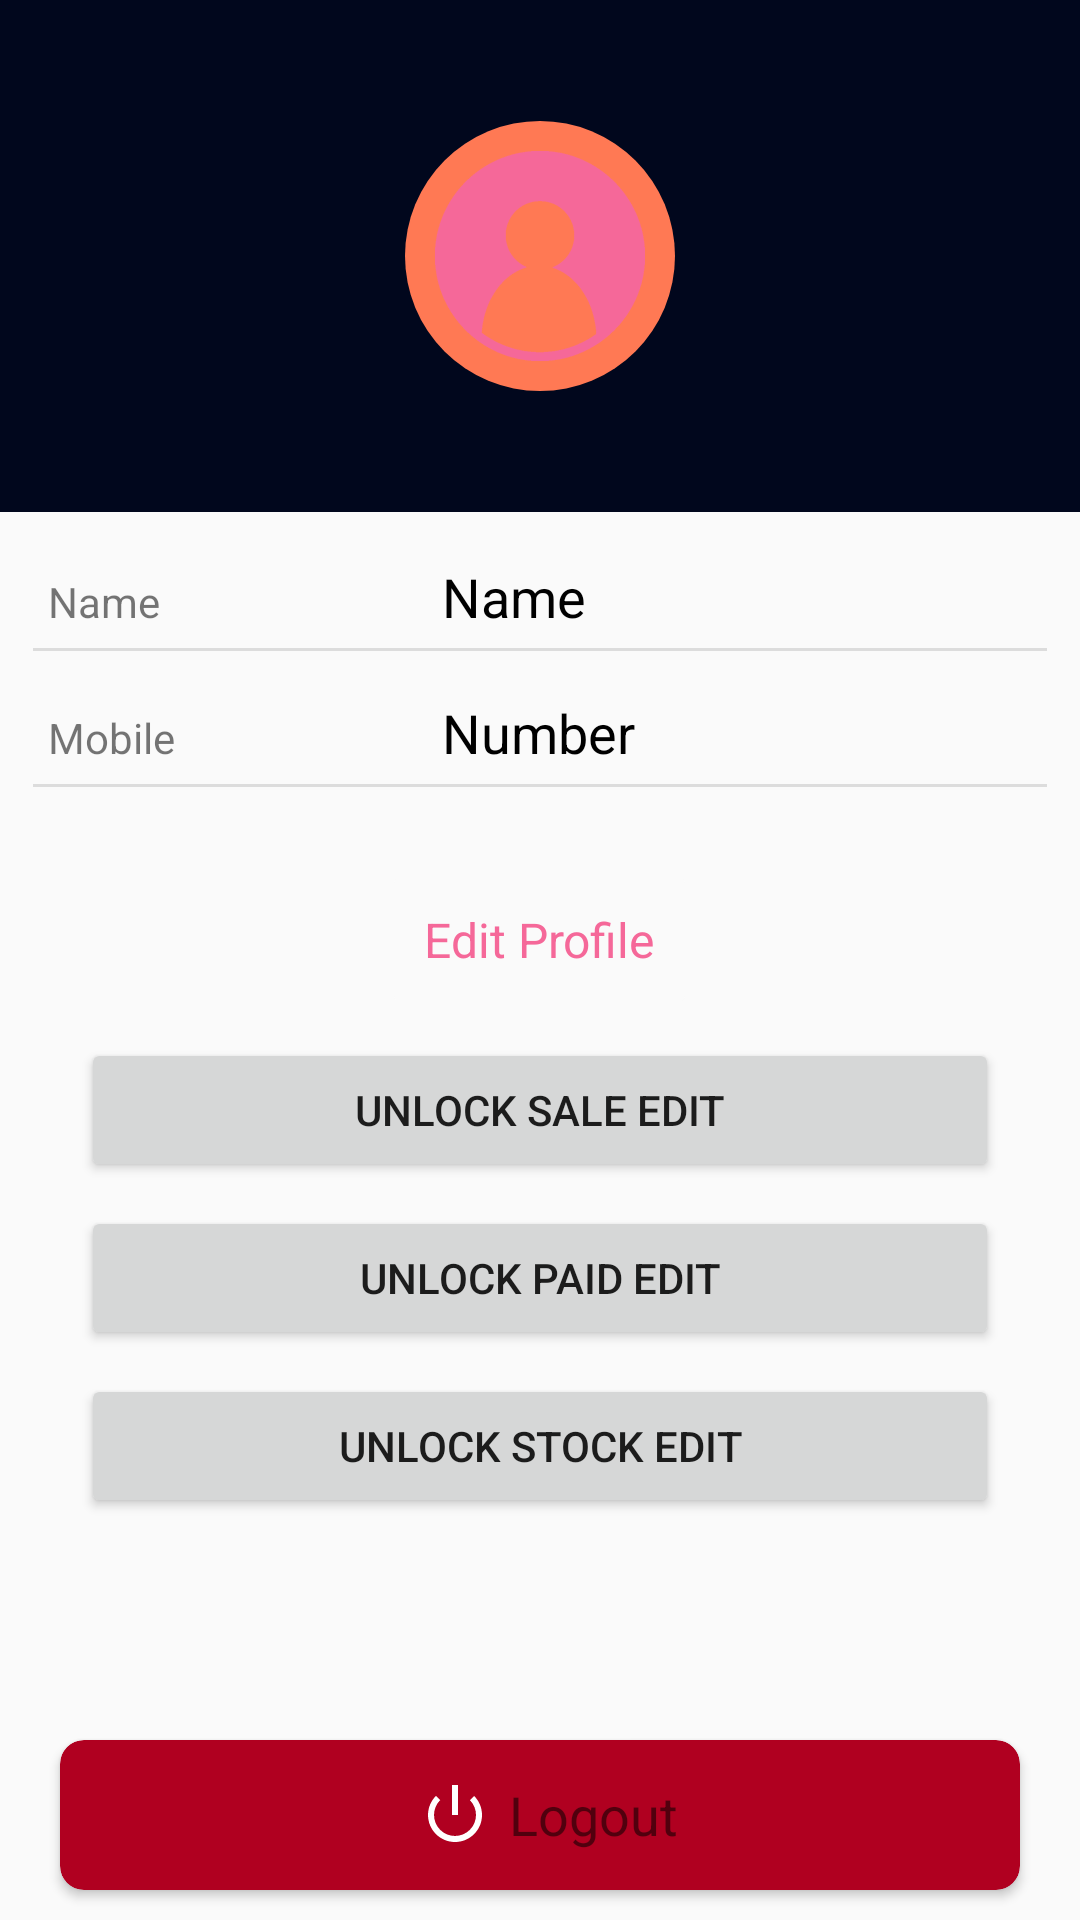

Screen size 1080 x 1920. Icon name, then its box in pixels as Rect(x1, y1, x2, y2):
lock power off: Rect(428, 1785, 482, 1842)
maccontlarge: Rect(405, 121, 675, 391)
